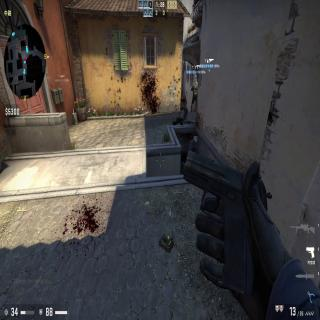CT-Body: (191, 78, 197, 112)
CT-Head: (195, 78, 197, 82)
